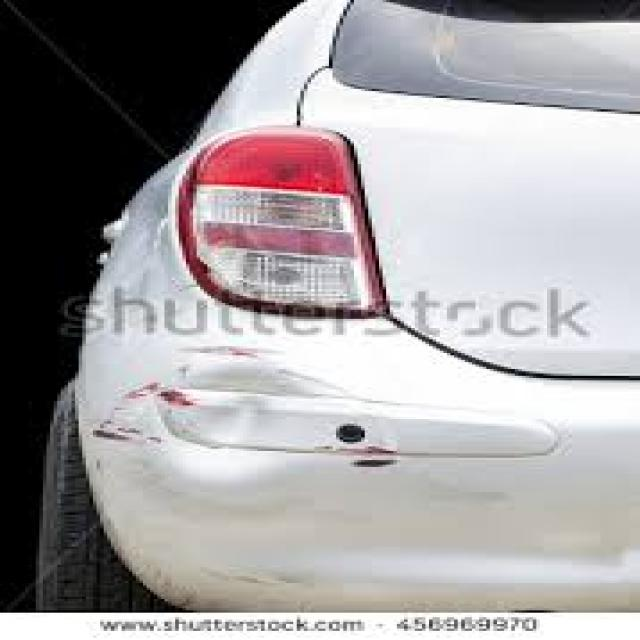minor: (107, 351, 371, 470)
